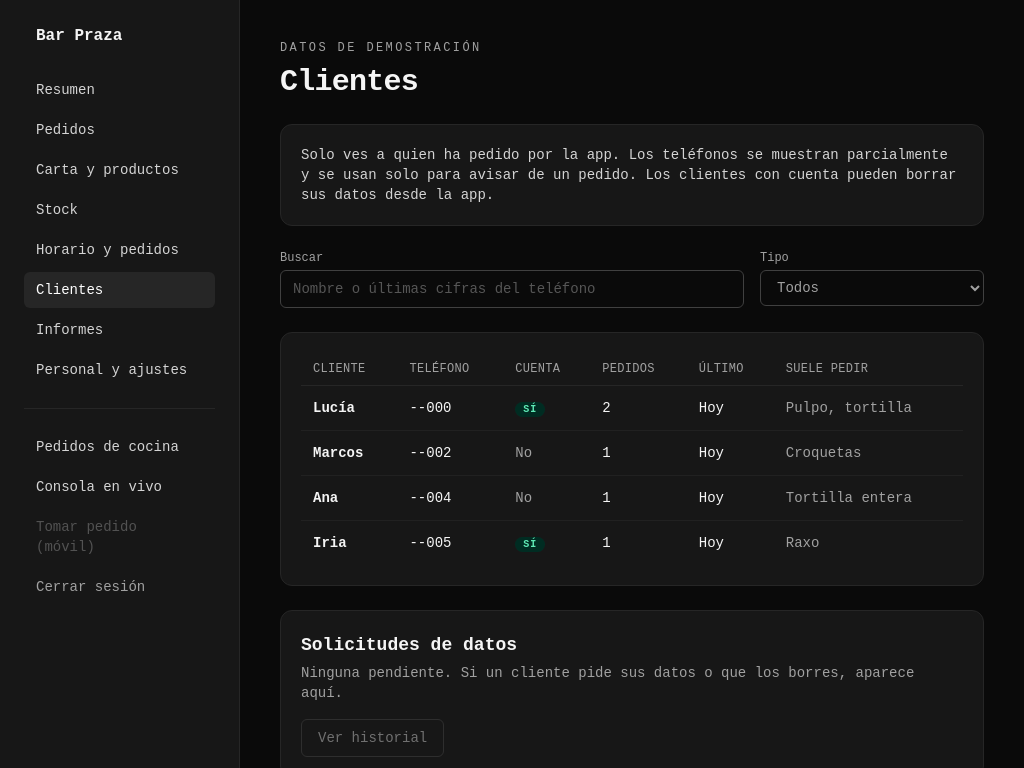
Test: CustomersPage › filters by account type
Expected: the text "Lucía" is shown, [301, 386, 398, 430]
Step 1. Select "Con cuenta" in the dropdown labelled "Tipo" → [872, 288], box [760, 270, 984, 306]
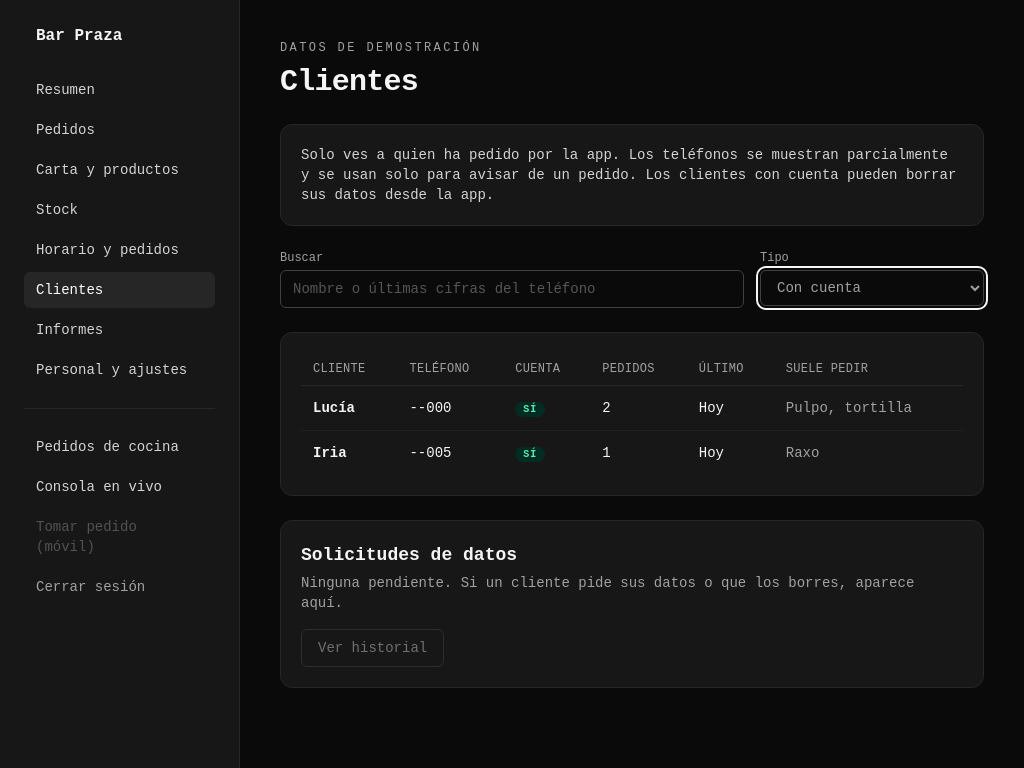
Expected: the text "Iria" is shown, [301, 430, 398, 475]
Result: the text "Marcos" is gone
